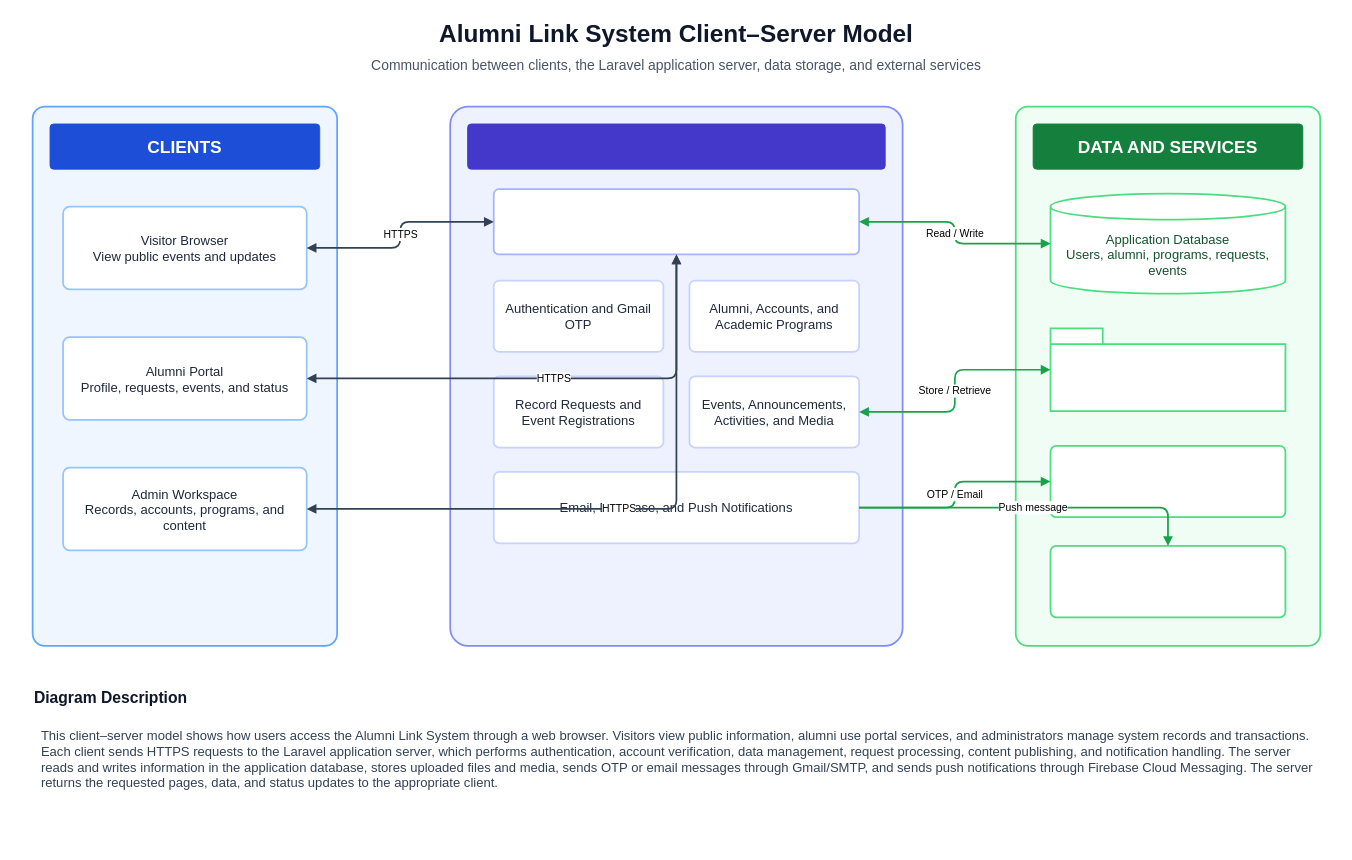
The diagram is 1352 pixels wide and 860 high, and some of its shapes have lost their labels. The shapes that lost their labels are listed below. From the top down, each one's centre as x and y in pixels, then its label:
At point 676,146: "WEB / APPLICATION SERVER".
At point 676,221: "Laravel 12 Application PHP 8.2+".
At point 1167,369: "File Storage Photos, media, and documents".
At point 1167,481: "Gmail / SMTP OTP and email notifications".
At point 1167,581: "Firebase Cloud Messaging Push notifications".
